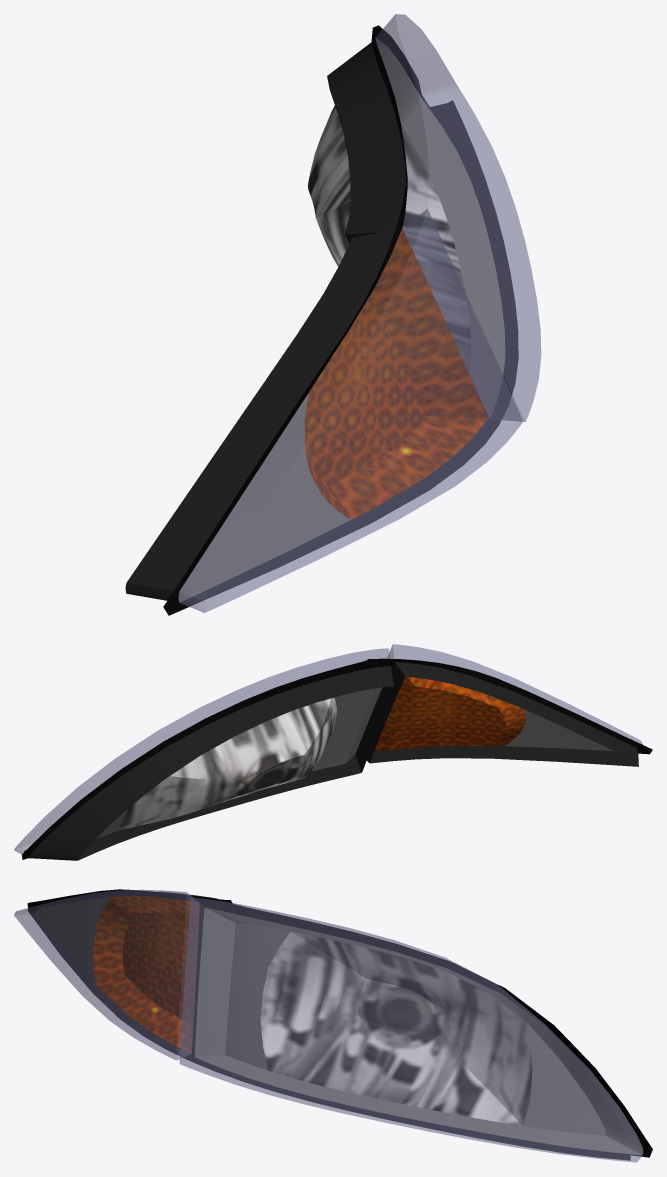
The picture shows the model from 3 angles, top to bottom: view 1: azimuth 30°, elevation 25°; view 2: azimuth 150°, elevation 25°; view 3: azimuth 270°, elevation 25°; orthographic projection. The views are drawn at different scales.
Visible parts, largest first — view 1: U234_061B_R_U234_061B_R_5_DTaSI, U234_061B_R_U234_061B_R_3_N, U234_061B_R_U234_061B_R_6_DTaSI, U234_061B_R_1_D_U234_061B_R, U234_061B_R_U234_061B_R_2_DaS, U234_061B_R_U234_061B_R_7_D, U234_061B_R_U234_061B_R_4_N; view 2: U234_061B_R_1_D_U234_061B_R, U234_061B_R_U234_061B_R_4_N, U234_061B_R_U234_061B_R_3_N, U234_061B_R_U234_061B_R_6_DTaSI, U234_061B_R_U234_061B_R_2_DaS, U234_061B_R_U234_061B_R_7_D, U234_061B_R_U234_061B_R_5_DTaSI; view 3: U234_061B_R_U234_061B_R_6_DTaSI, U234_061B_R_U234_061B_R_4_N, U234_061B_R_U234_061B_R_2_DaS, U234_061B_R_U234_061B_R_5_DTaSI, U234_061B_R_U234_061B_R_3_N, U234_061B_R_U234_061B_R_7_D.
Part boxes in pixels (x1,y1,x2,y2): U234_061B_R_U234_061B_R_5_DTaSI: (179, 209, 522, 612); U234_061B_R_U234_061B_R_3_N: (304, 229, 487, 519); U234_061B_R_U234_061B_R_6_DTaSI: (375, 14, 541, 421); U234_061B_R_1_D_U234_061B_R: (125, 42, 406, 600); U234_061B_R_U234_061B_R_2_DaS: (178, 38, 505, 602); U234_061B_R_U234_061B_R_7_D: (163, 25, 518, 615); U234_061B_R_U234_061B_R_4_N: (307, 105, 470, 367); U234_061B_R_1_D_U234_061B_R: (28, 662, 638, 860); U234_061B_R_U234_061B_R_4_N: (119, 697, 337, 830); U234_061B_R_U234_061B_R_3_N: (374, 677, 525, 751); U234_061B_R_U234_061B_R_6_DTaSI: (14, 648, 389, 854); U234_061B_R_U234_061B_R_2_DaS: (96, 687, 613, 838); U234_061B_R_U234_061B_R_7_D: (22, 658, 652, 859); U234_061B_R_U234_061B_R_5_DTaSI: (387, 644, 642, 744); U234_061B_R_U234_061B_R_6_DTaSI: (179, 897, 642, 1162); U234_061B_R_U234_061B_R_4_N: (260, 931, 532, 1125); U234_061B_R_U234_061B_R_2_DaS: (36, 897, 643, 1154); U234_061B_R_U234_061B_R_5_DTaSI: (14, 889, 198, 1060); U234_061B_R_U234_061B_R_3_N: (93, 896, 199, 1052); U234_061B_R_U234_061B_R_7_D: (27, 889, 652, 1160).
Bounding box in the file's own units: 51.2 × 15.94 × 57.66.
